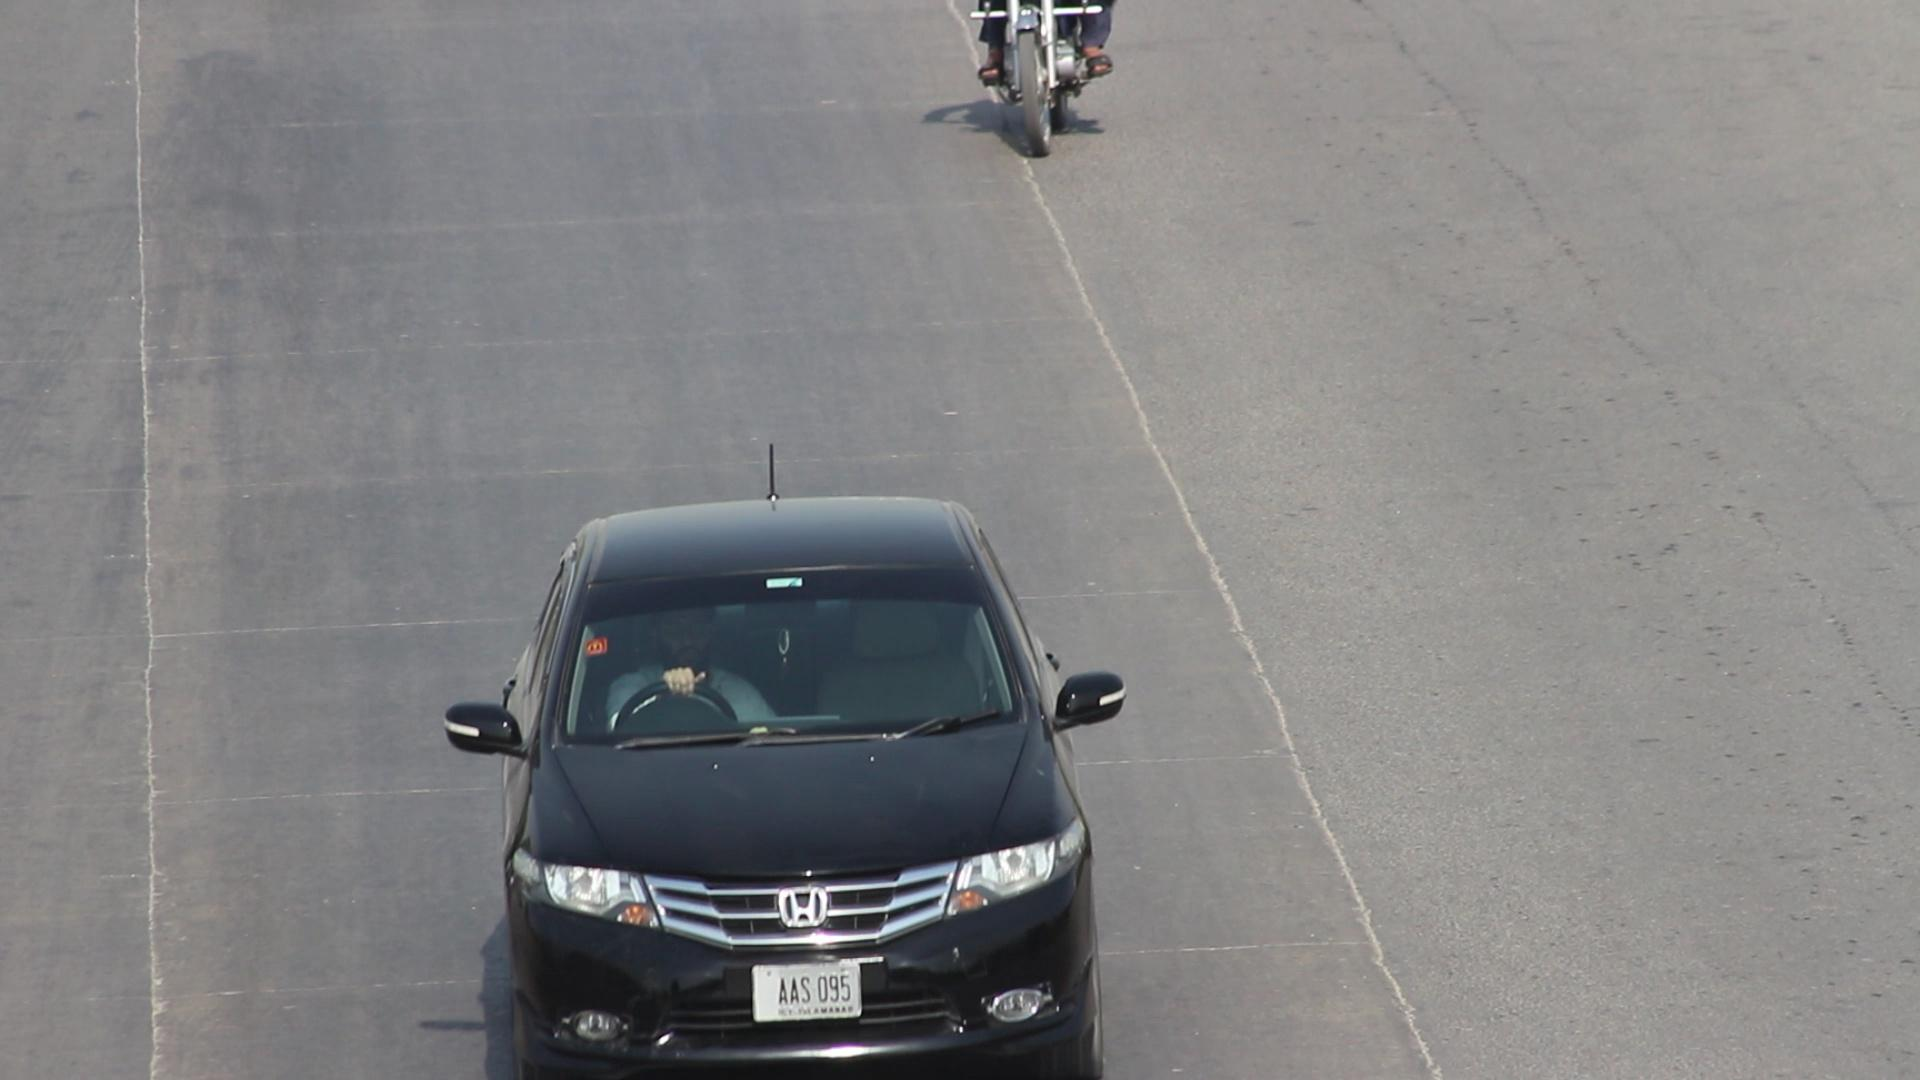windshield: (538, 556, 1058, 753)
